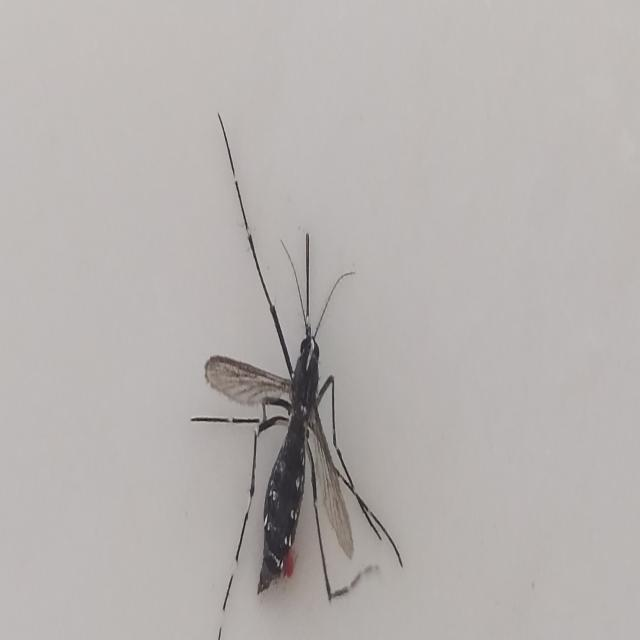albopictus: (189, 111, 404, 609)
